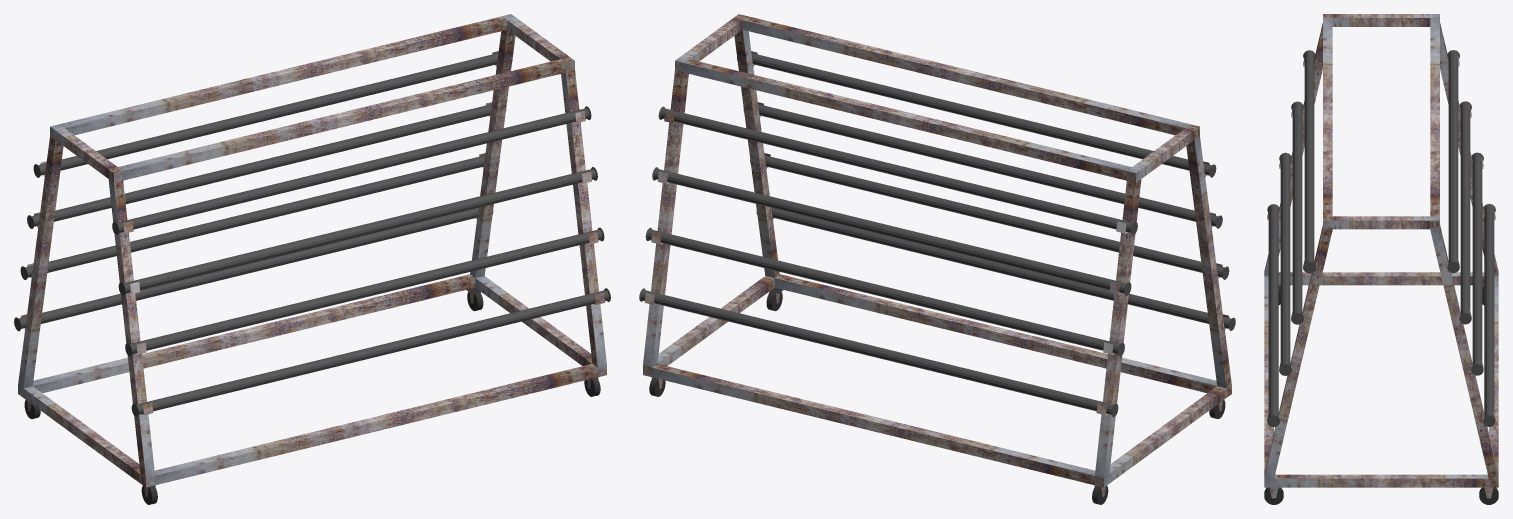
File: MetalRack.fbx
3 views of the same model, side by side, from view 1: azimuth 30°, elevation 25°; view 2: azimuth 150°, elevation 25°; view 3: azimuth 270°, elevation 25° (orthographic). The views are drawn at different scales.
Parts seen in each view (by area): view 1: Cylinder.039; view 2: Cylinder.039; view 3: Cylinder.039.
Part boxes in pixels (box(x1,y1,x2,y2)): Cylinder.039: box(14, 14, 610, 504); Cylinder.039: box(639, 14, 1235, 504); Cylinder.039: box(1264, 14, 1498, 504).
Size of the model in its own units: 260 by 165 by 122.
